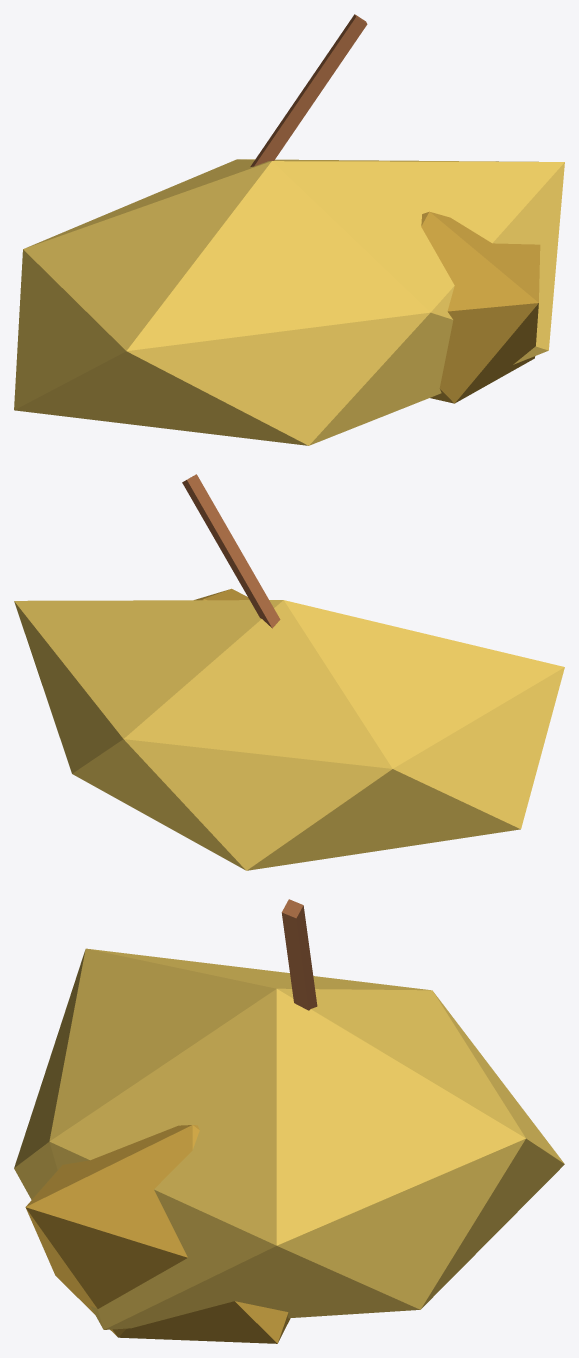
File: Hay_Pile.fbx
3 views of the same model, one above another, from view 1: azimuth 30°, elevation 25°; view 2: azimuth 150°, elevation 25°; view 3: azimuth 270°, elevation 25° (orthographic). The views are drawn at different scales.
Parts seen in each view (by area): view 1: Hay_Pile; view 2: Hay_Pile; view 3: Hay_Pile.
Boxes of the visible parts, <box> form: Hay_Pile: <box>14,14,564,445</box>; Hay_Pile: <box>14,474,564,870</box>; Hay_Pile: <box>14,899,564,1343</box>.
Size of the model in its own units: 1.8 by 0.9861 by 1.31.
